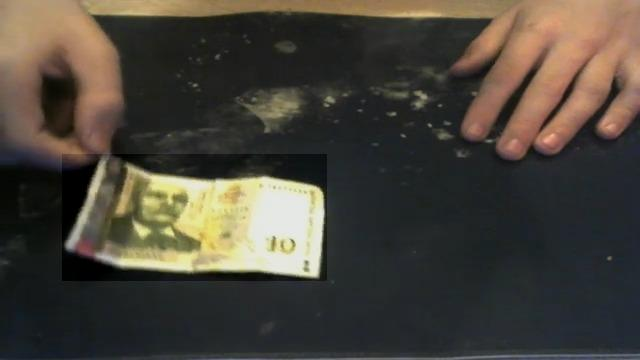10leva: (62, 154, 327, 281)
